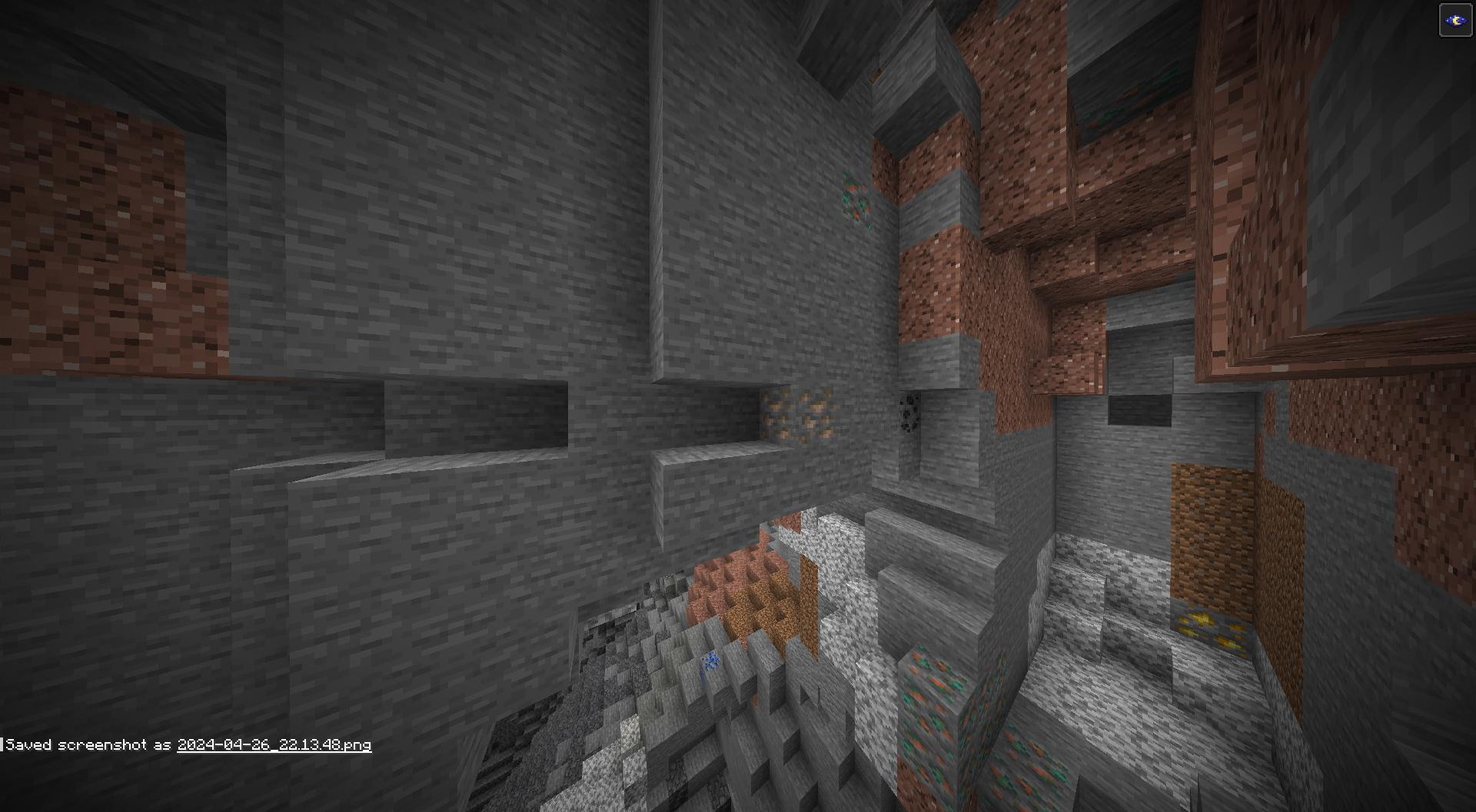iron ore: (753, 372, 839, 446)
